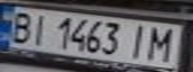1: (51, 15, 72, 49)
3: (100, 19, 127, 57)
4: (66, 16, 87, 52)
6: (84, 18, 106, 55)
B: (3, 9, 39, 44)
I: (121, 21, 151, 60), (27, 11, 54, 46)
M: (142, 25, 181, 63)
